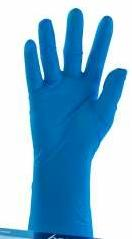gloves: (20, 7, 127, 239)
